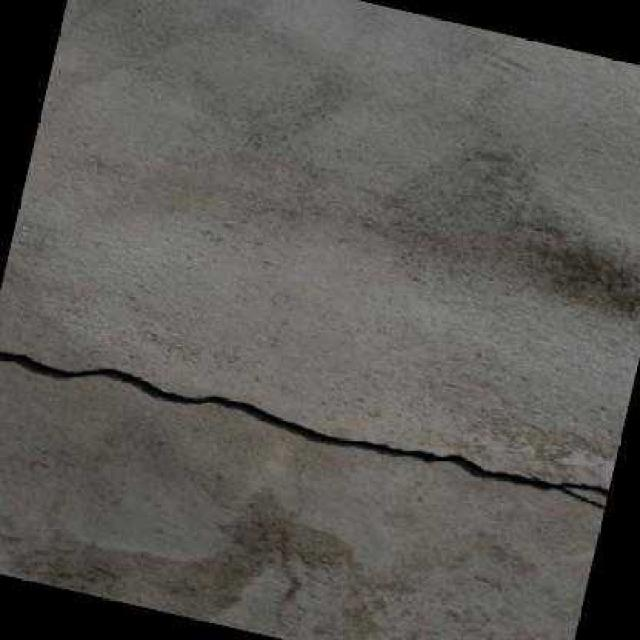D00: (0, 347, 610, 498)
